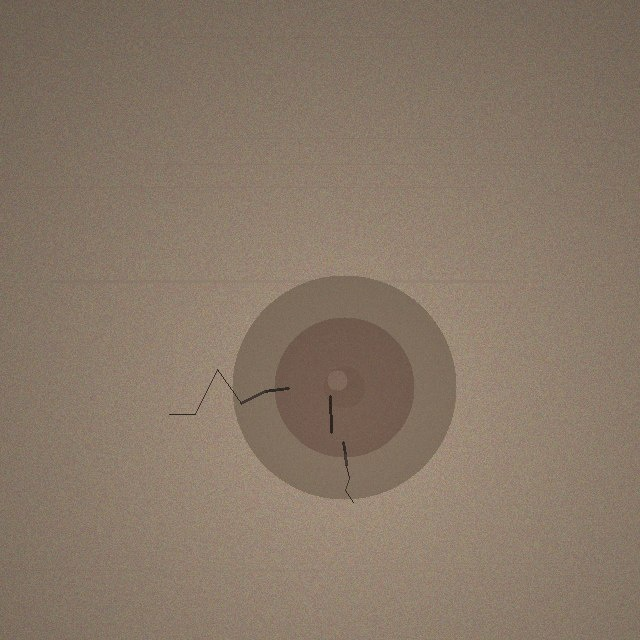crack: (232, 275, 456, 499)
